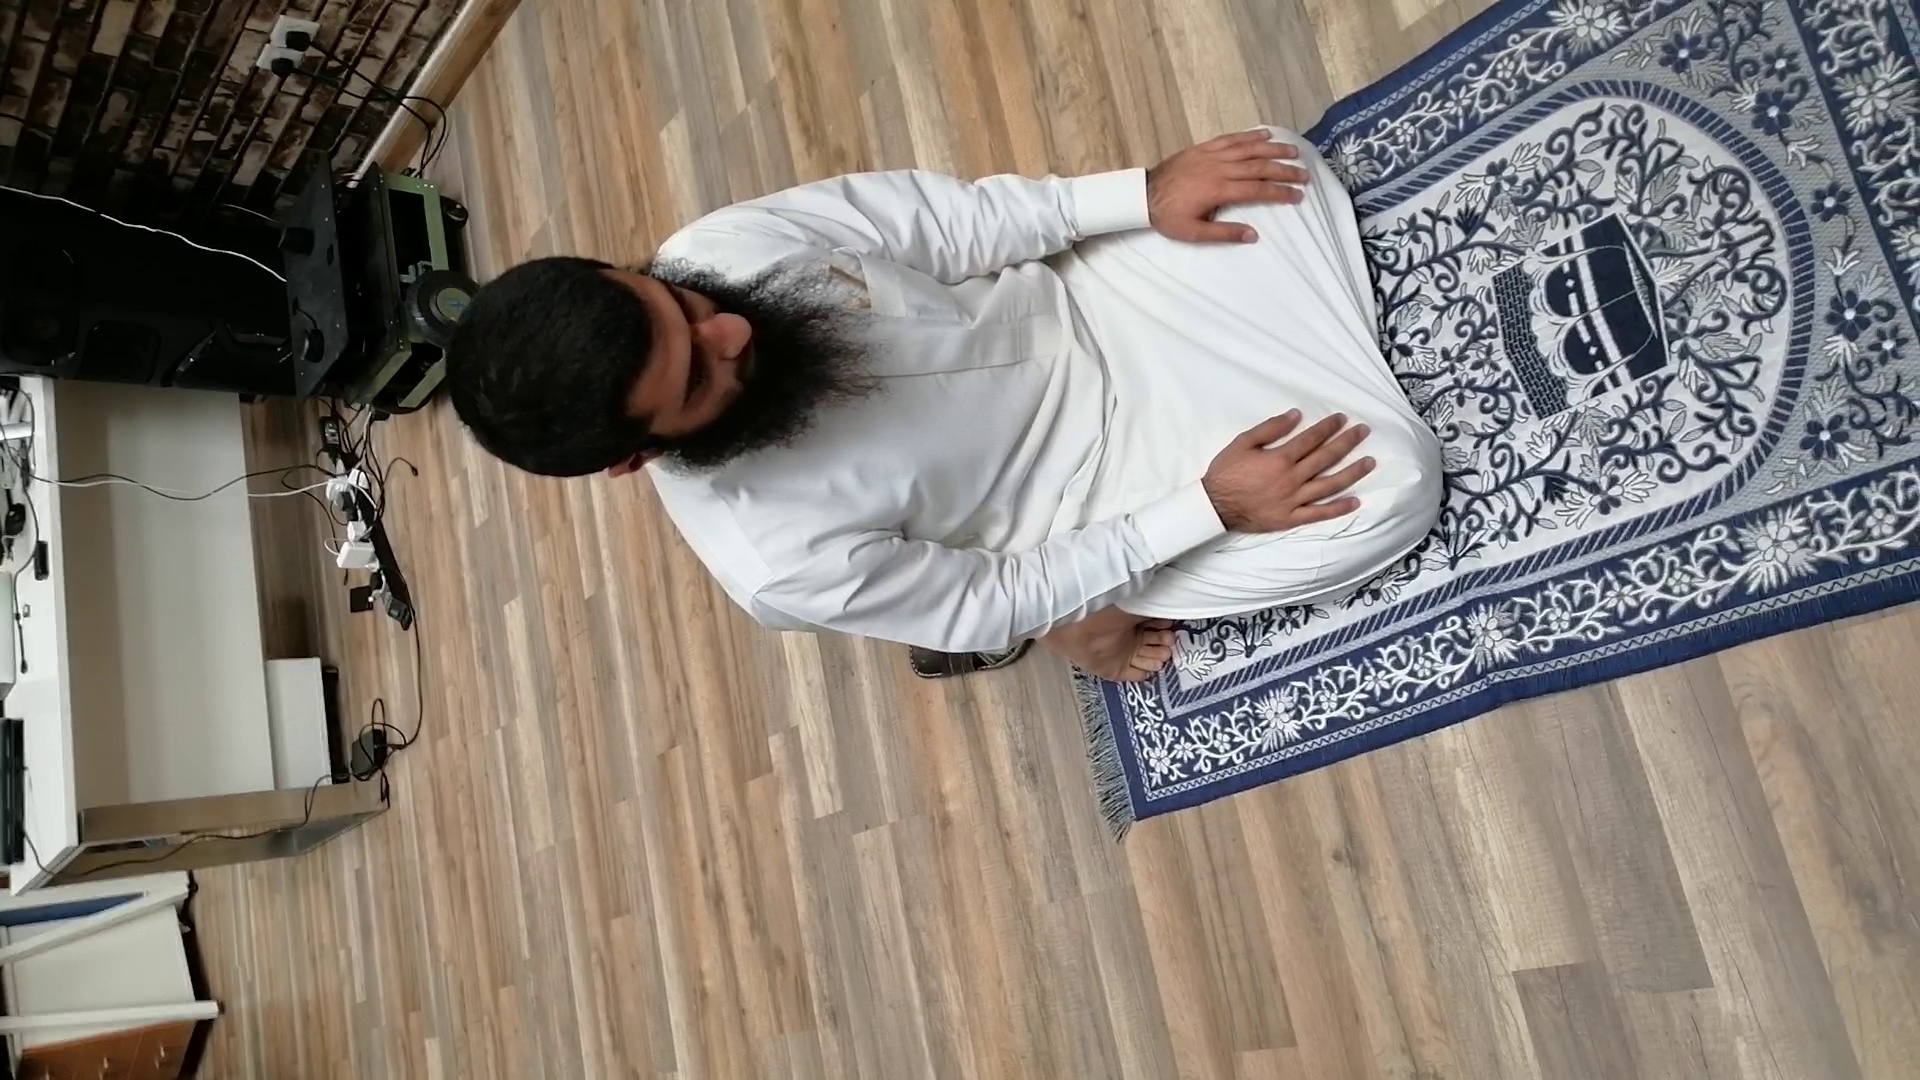sitting: (436, 116, 1447, 720)
